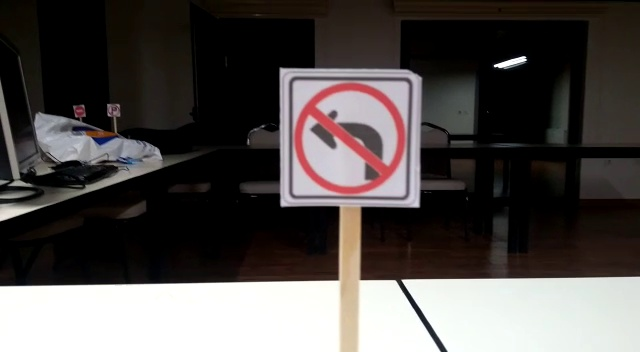sola_donulmez: (285, 72, 404, 199)
